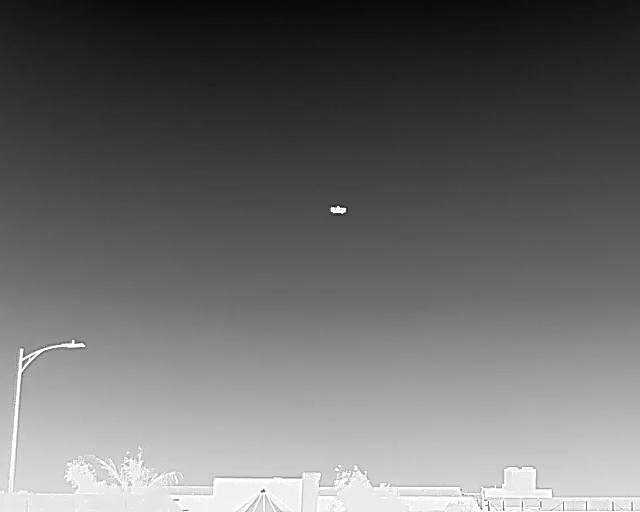fpv-drone: (329, 204, 347, 215)
